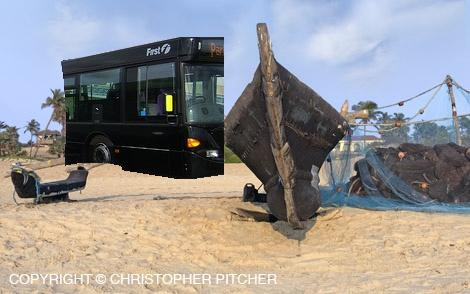tampered: (62, 38, 224, 179)
